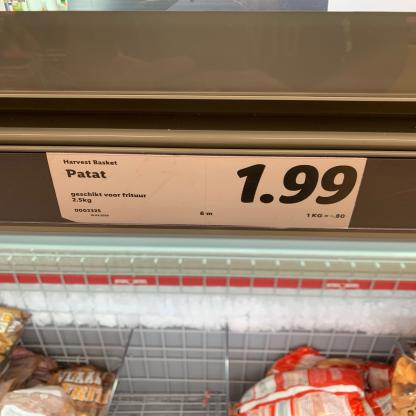prtg: (47, 153, 368, 230)
